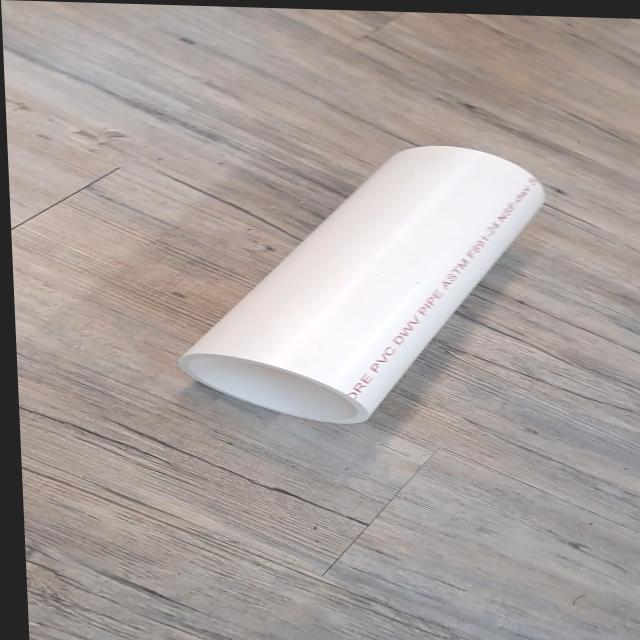CORAL: (133, 122, 575, 478)
